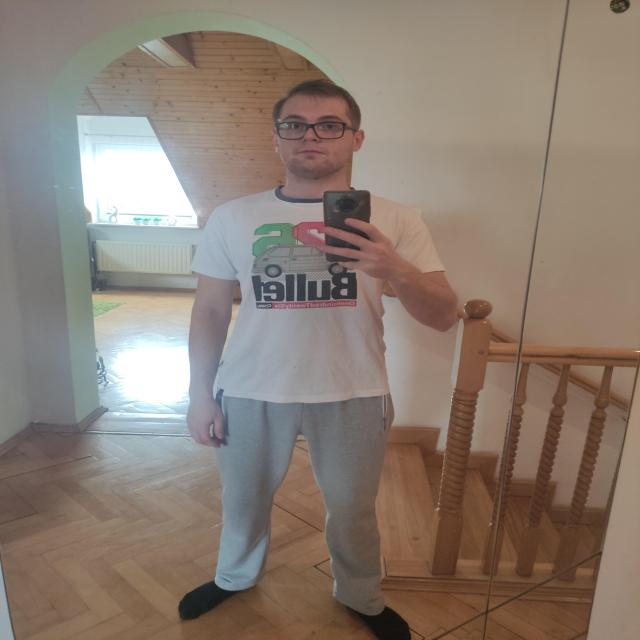Tshirt: (190, 185, 449, 404)
pants: (214, 380, 396, 613)
